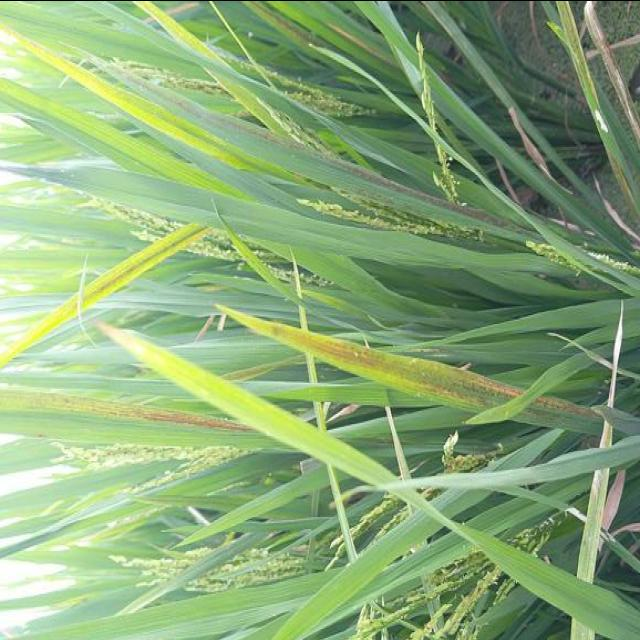Leaf Streak: (167, 97, 545, 239), (217, 304, 525, 411), (0, 223, 208, 368), (41, 392, 251, 429), (513, 394, 606, 434), (577, 466, 609, 581), (609, 299, 623, 407), (570, 618, 595, 640), (600, 419, 613, 448)
